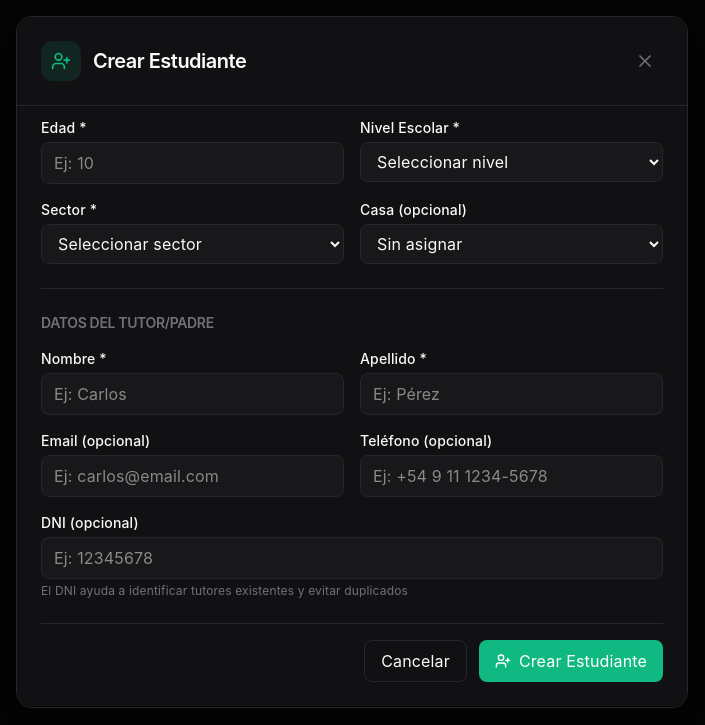
Test case: EstudianteFormModal › Validación › muestra errores cuando campos requeridos están vacíos
(page scrolled)
# Click en submit sin llenar campos
Click the button "Crear Estudiante": (571, 661) [479,640,663,682]
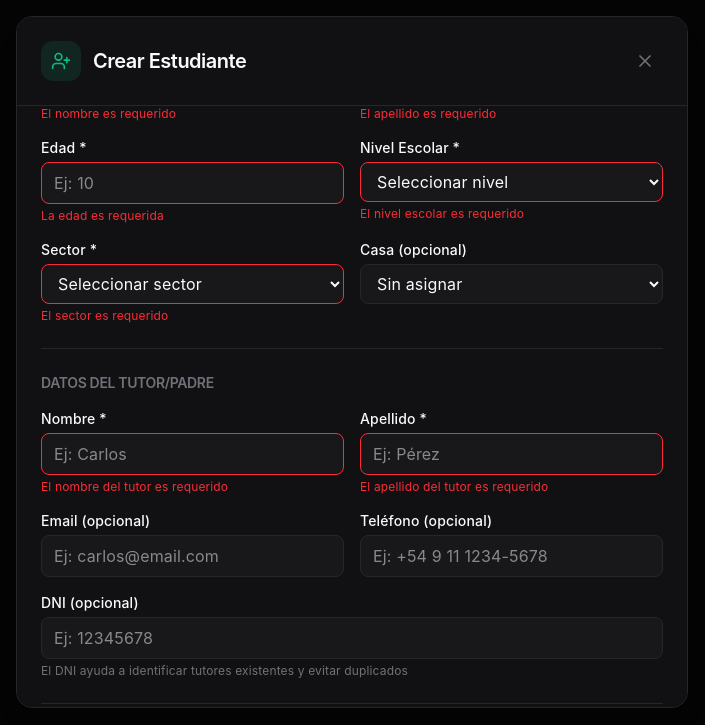
Now the text "El nombre es requerido" is shown, box [41,106,176,121]
Now the text "El apellido es requerido" is shown, box [360,106,496,121]
Now the text "La edad es requerida" is shown, box [41,208,164,223]
